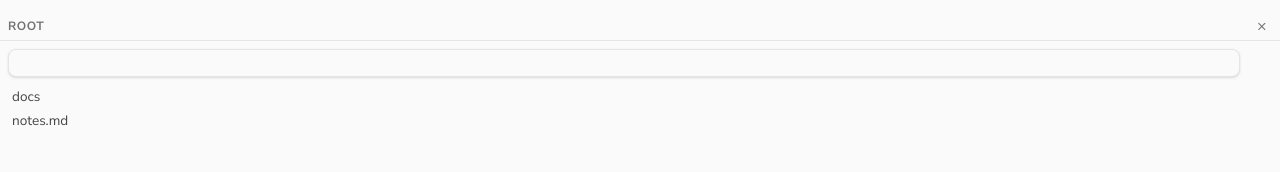
<FileTreePanel> › expands a directory on click and reveals its children
Click the list item "docs": (26, 96) [12,87,40,106]
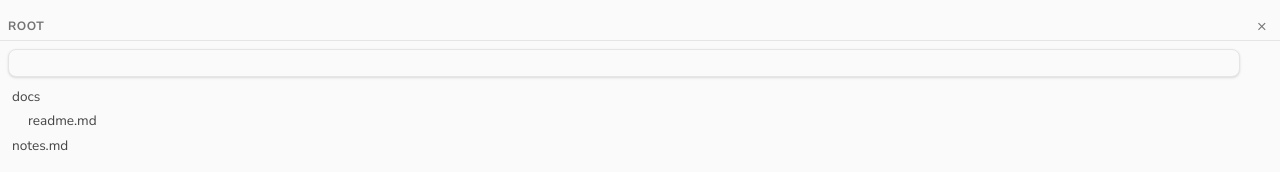
Result: the list item "readme.md" is shown at [28,111,97,130]
